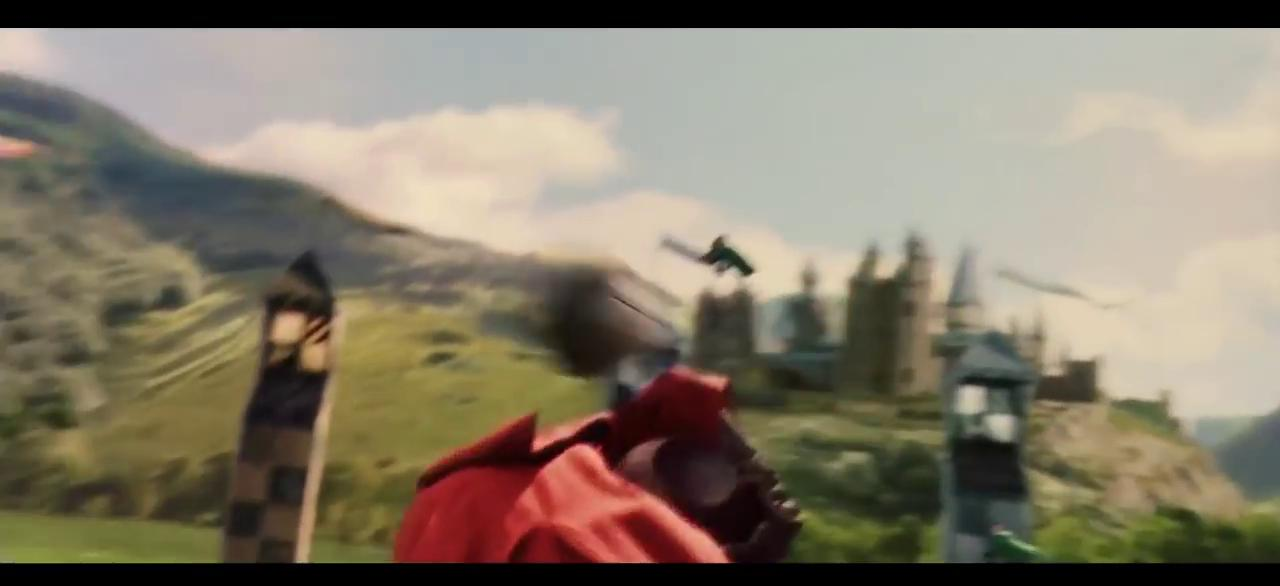bludger: (535, 261, 642, 381)
quaffle: (620, 434, 761, 547)
